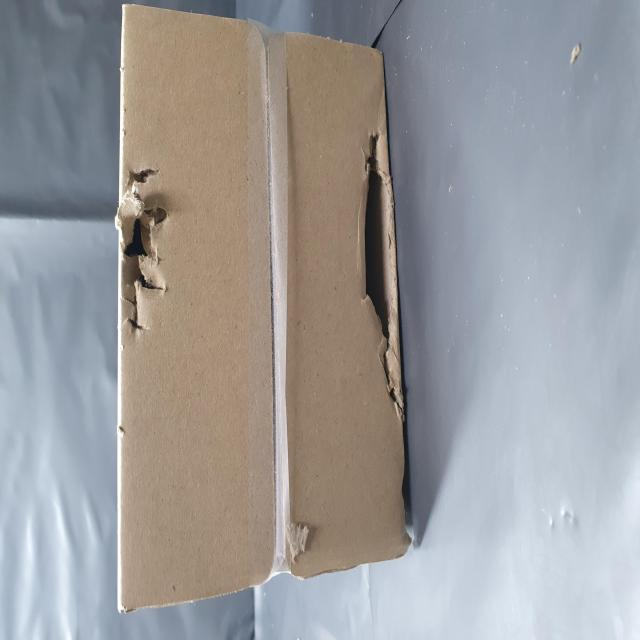damaged: (165, 209, 268, 315), (144, 632, 292, 640)
